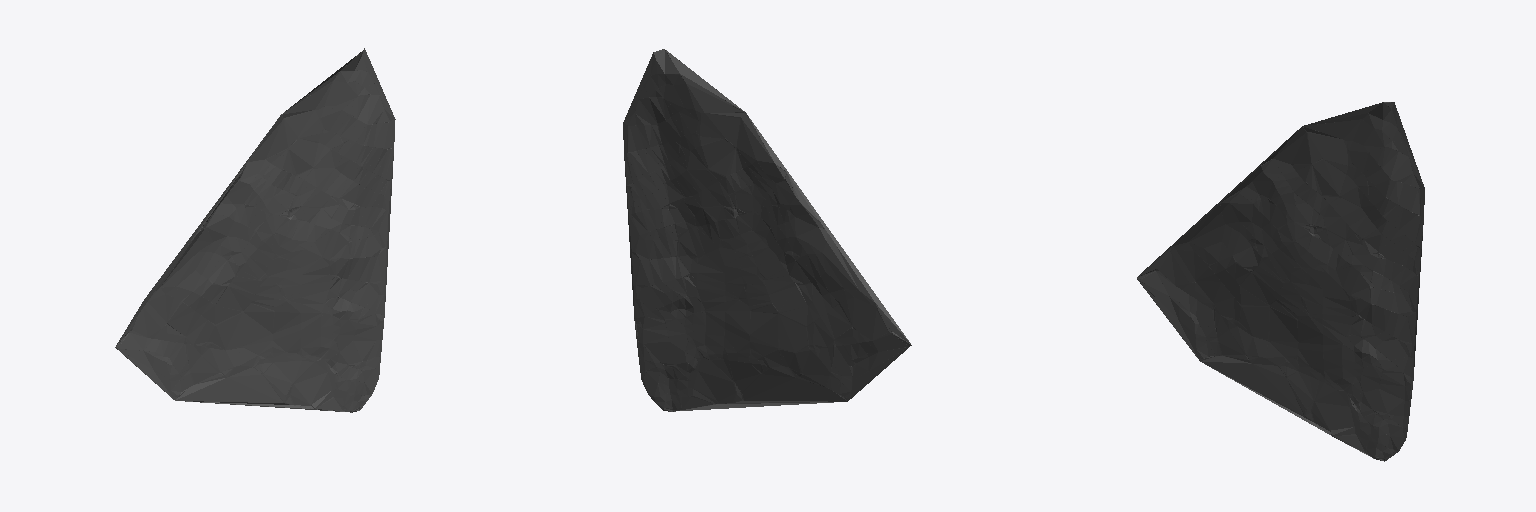
Rendered from arcscenetin_flipped_meters.obj.
3 renders of one model, left to right at view 1: azimuth 30°, elevation 25°; view 2: azimuth 150°, elevation 25°; view 3: azimuth 330°, elevation 25°, orthographic.
Parts seen in each view (by area): view 1: surface; view 2: surface; view 3: surface.
Boxes of the visible parts, box(x1,y1,x2,y2) form: surface: box(115, 48, 395, 412); surface: box(623, 49, 911, 411); surface: box(1137, 102, 1424, 461).
Size of the model in its own units: 559 by 678 by 22.6.